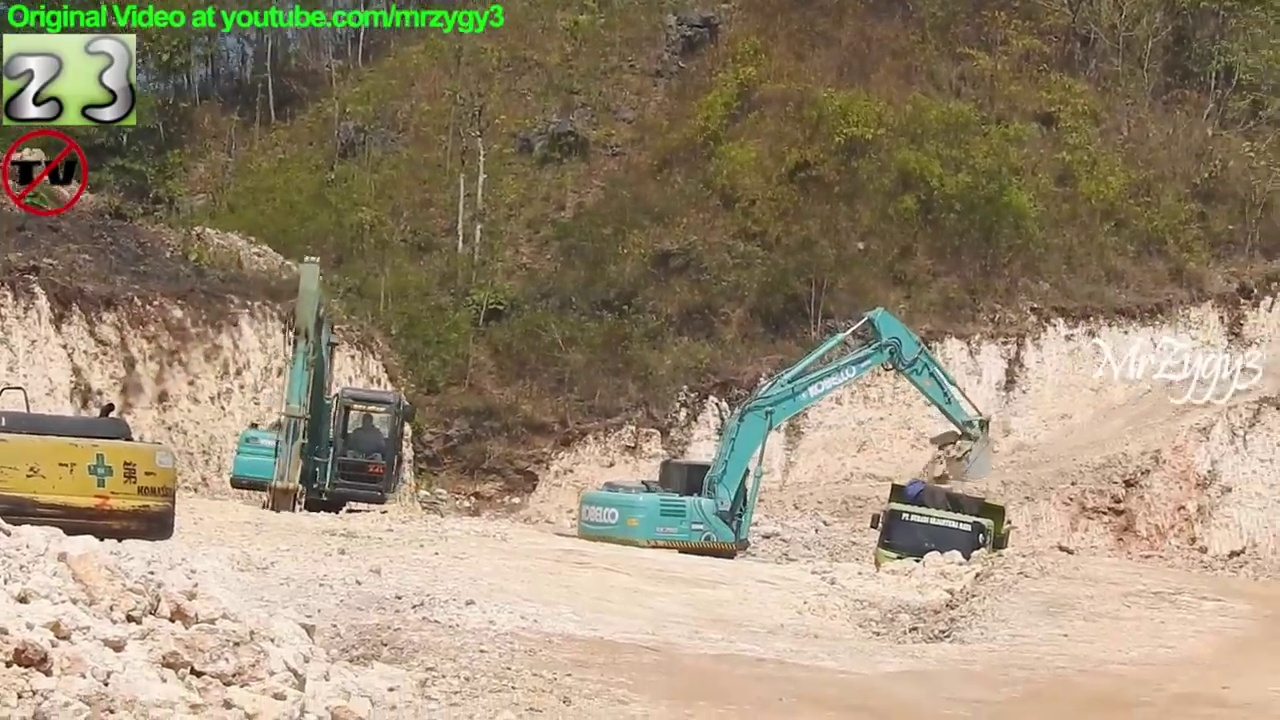excavator: (574, 302, 998, 595), (226, 251, 415, 567), (1, 379, 188, 551)
truck: (867, 475, 1016, 612)
